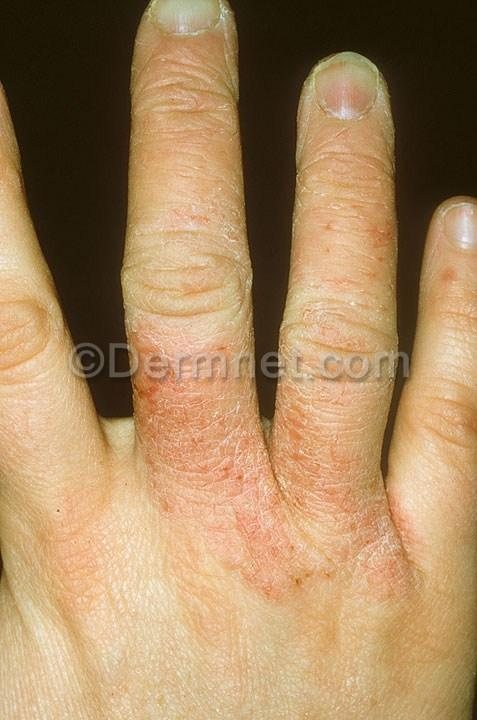Eczema: (191, 509, 423, 607), (276, 380, 394, 517), (131, 380, 255, 502), (317, 161, 405, 331), (437, 248, 460, 303)
